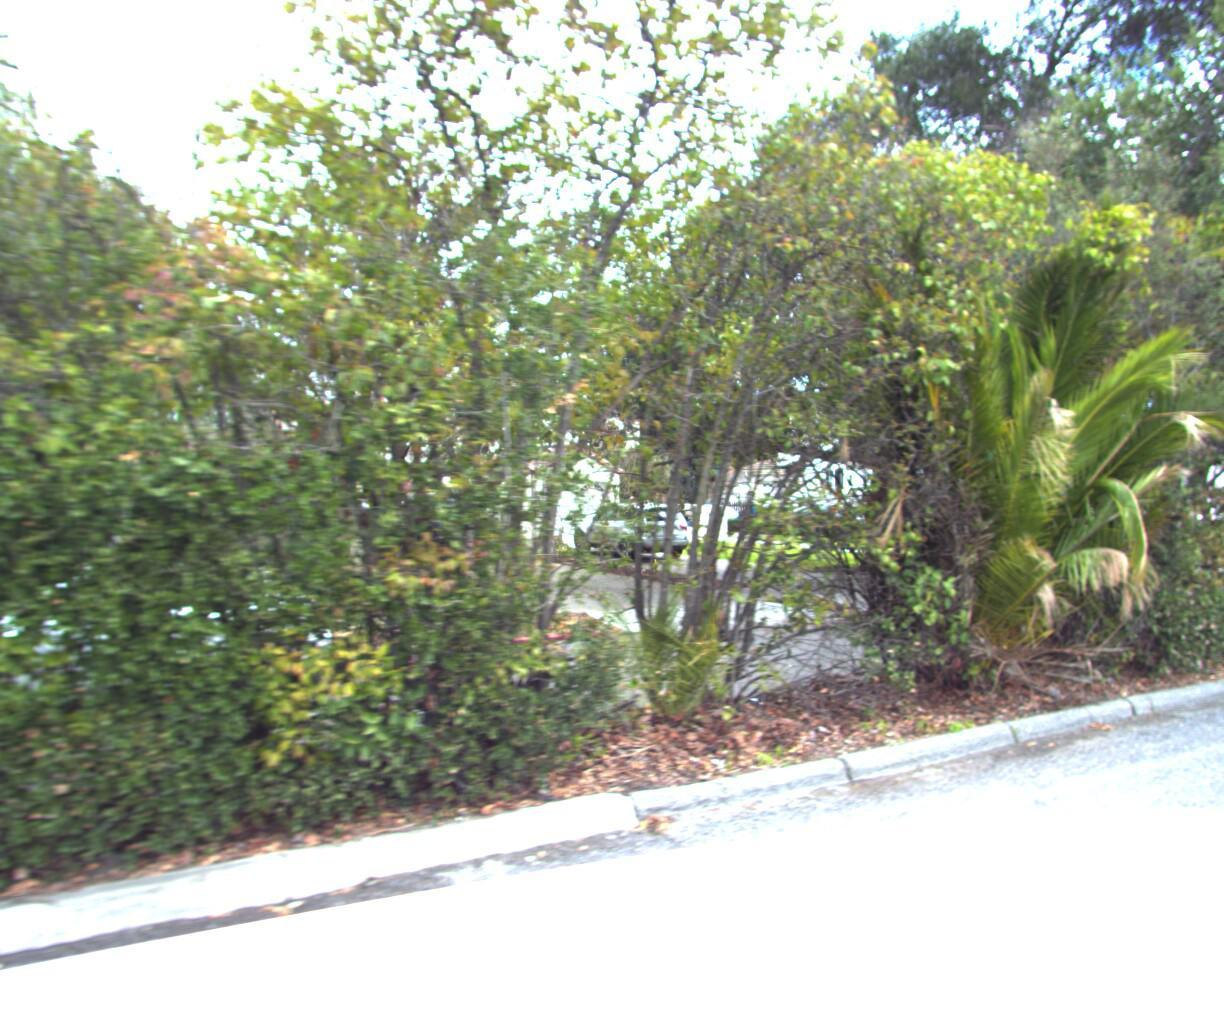car: (563, 486, 701, 559)
